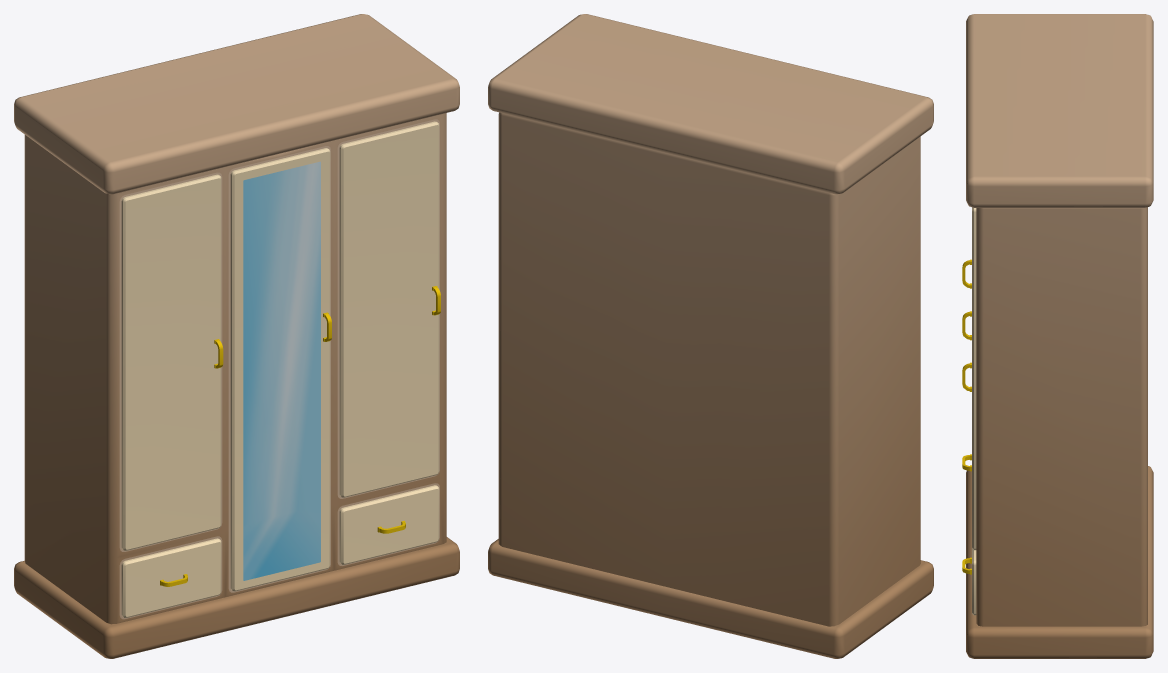
Rendered from Wardrobe_62.fbx.
3 renders of one model, left to right at view 1: azimuth 30°, elevation 25°; view 2: azimuth 150°, elevation 25°; view 3: azimuth 270°, elevation 25°, orthographic. The views are drawn at different scales.
Parts seen in each view (by area): view 1: Wardrobe_62, Wardrobe_62 Door_2, Wardrobe_62 Door_1, Wardrobe_62 Door_3, Wardrobe_62 Door_4, Wardrobe_62 Door_5; view 2: Wardrobe_62; view 3: Wardrobe_62, Wardrobe_62 Door_3, Wardrobe_62 Door_5.
Part boxes in pixels (x1=…): Wardrobe_62: x1=14, y1=14, x2=459, y2=658; Wardrobe_62 Door_2: x1=230, y1=148, x2=331, y2=591; Wardrobe_62 Door_1: x1=121, y1=174, x2=223, y2=550; Wardrobe_62 Door_3: x1=339, y1=121, x2=440, y2=497; Wardrobe_62 Door_4: x1=121, y1=538, x2=221, y2=617; Wardrobe_62 Door_5: x1=339, y1=485, x2=439, y2=564; Wardrobe_62: x1=488, y1=14, x2=933, y2=658; Wardrobe_62: x1=966, y1=14, x2=1153, y2=658; Wardrobe_62 Door_3: x1=962, y1=207, x2=976, y2=550; Wardrobe_62 Door_5: x1=962, y1=548, x2=976, y2=615.
Size of the model in its own units: 1.66 by 2.21 by 0.7947.
